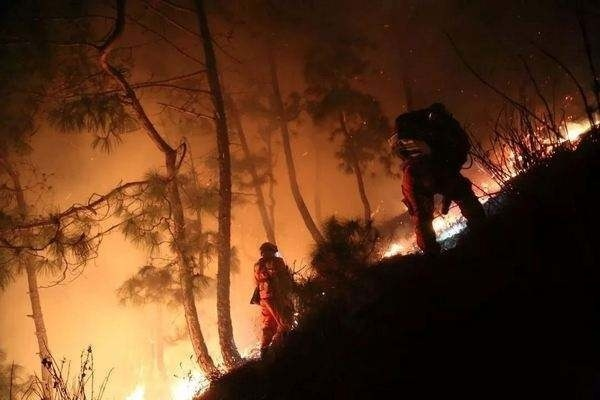fire: (117, 354, 212, 400)
